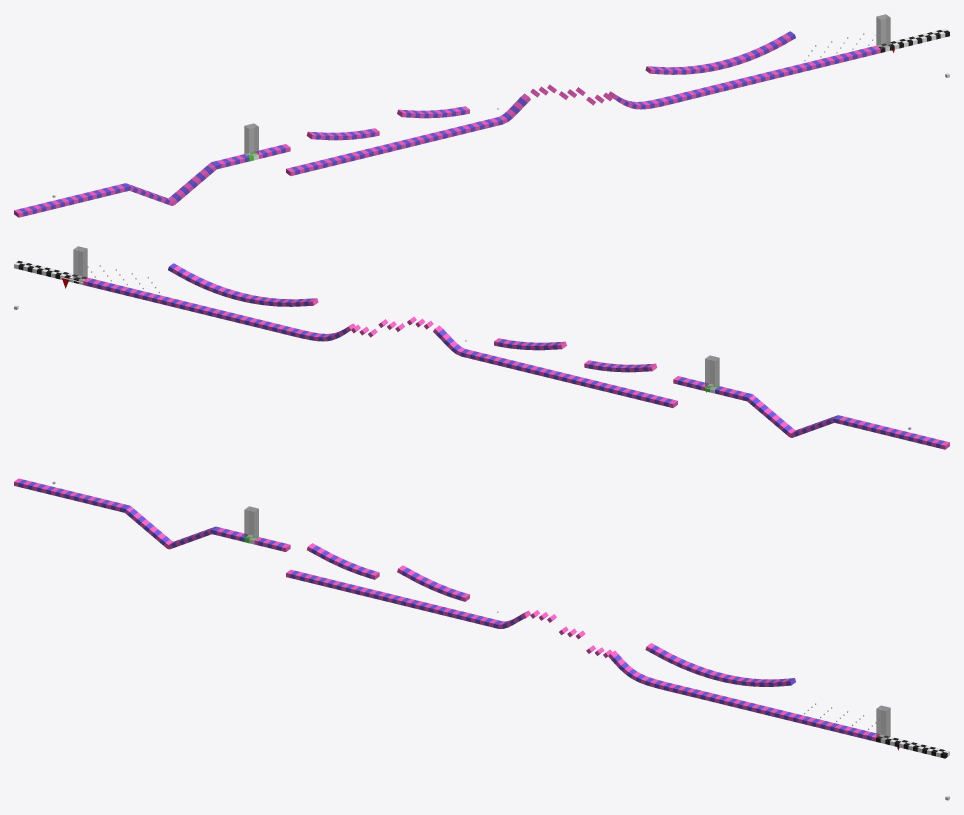
3 views of the same model, one above another, from view 1: azimuth 30°, elevation 25°; view 2: azimuth 150°, elevation 25°; view 3: azimuth 330°, elevation 25° (orthographic).
Parts seen in each view (by area): view 1: Floor, Finish_Floor, Finish, Checkpoint; view 2: Floor, Finish_Floor, Finish, Checkpoint; view 3: Floor.
Boxes of the visible parts, <box> form: Floor: <box>14,31,880,217</box>; Finish_Floor: <box>876,29,949,52</box>; Finish: <box>876,14,890,48</box>; Checkpoint: <box>244,123,258,157</box>; Floor: <box>83,263,949,449</box>; Finish_Floor: <box>14,261,87,284</box>; Finish: <box>73,246,87,280</box>; Checkpoint: <box>705,355,719,389</box>; Floor: <box>14,478,879,741</box>.
Size of what is drawn, in the model's own units: 202 by 25.01 by 1.93.
4 materials, 1 textured.
